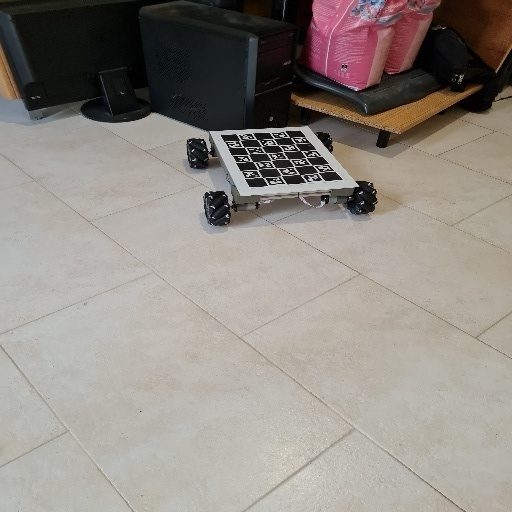Omniwheel: (186, 124, 379, 227)
